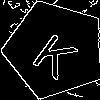K: (30, 25, 86, 81)
